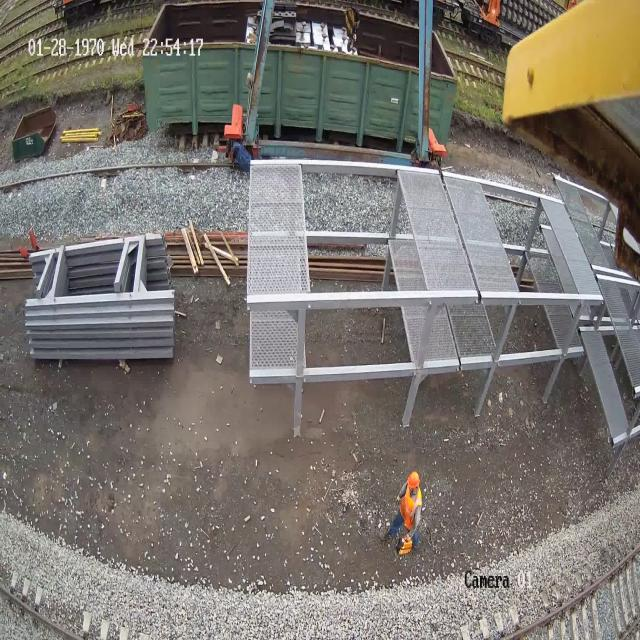Helmet: (407, 470, 420, 489)
Person: (381, 471, 422, 552)
